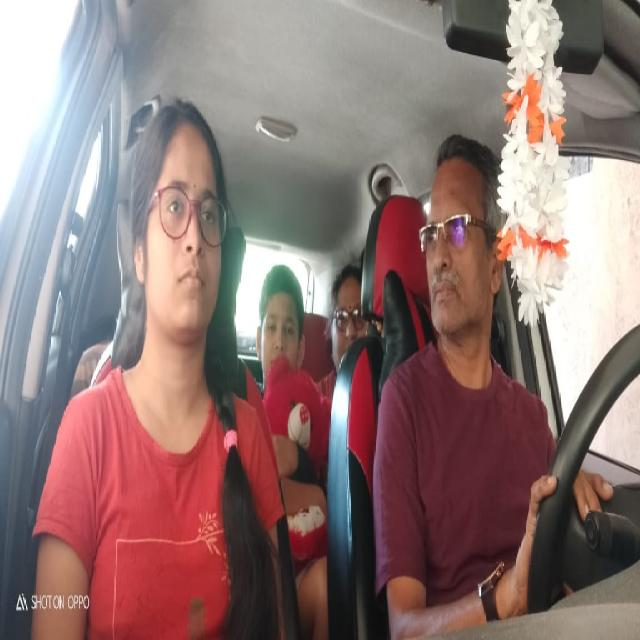LeftRight: (417, 107, 520, 386)
person: (127, 73, 229, 402), (253, 241, 313, 425), (326, 250, 367, 377)
